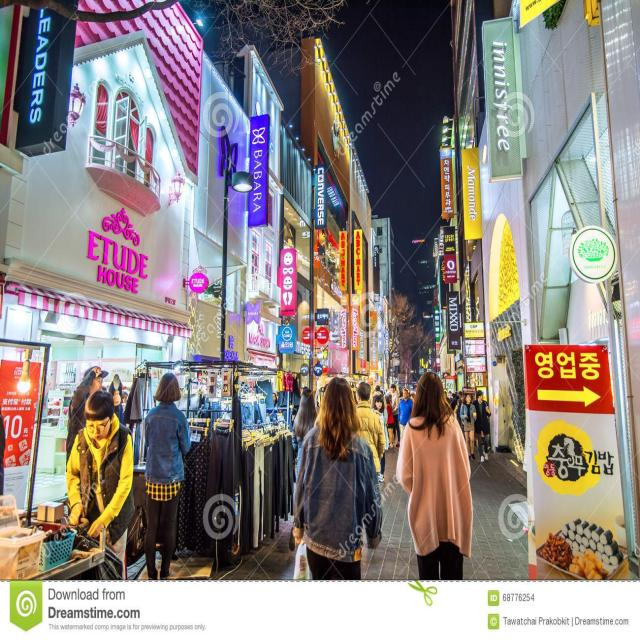body: (292, 377, 383, 639), (65, 389, 136, 639), (396, 371, 474, 581), (143, 372, 192, 590), (63, 364, 110, 475), (354, 381, 386, 479), (292, 388, 318, 483), (372, 395, 389, 483), (471, 389, 491, 462), (459, 392, 477, 461), (398, 388, 413, 450), (389, 383, 402, 447), (102, 374, 124, 402), (384, 395, 395, 448), (0, 404, 5, 498), (443, 390, 462, 414), (370, 384, 388, 409), (266, 392, 280, 422), (372, 389, 394, 408), (455, 398, 462, 428), (120, 390, 128, 412), (319, 383, 329, 400), (351, 379, 357, 407), (151, 390, 157, 408), (297, 388, 306, 400), (398, 390, 403, 403), (408, 392, 415, 401), (222, 383, 228, 392)
